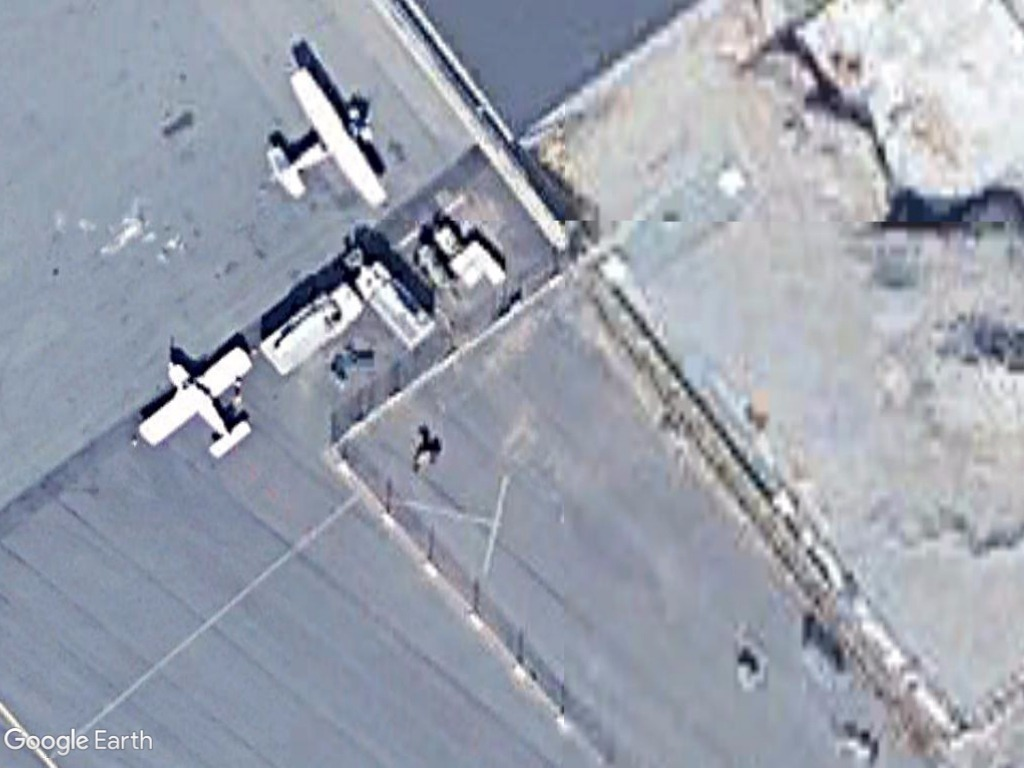chartered: (134, 336, 261, 467)
trainer: (263, 68, 400, 219)
